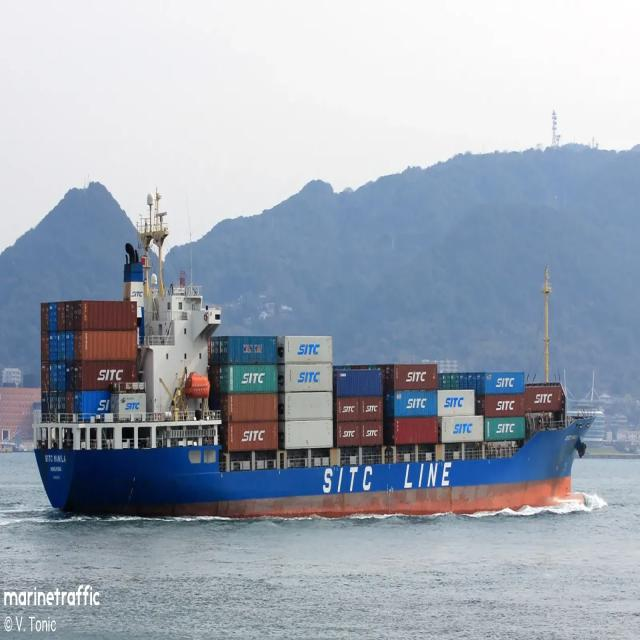Cargo: (35, 193, 592, 516)
